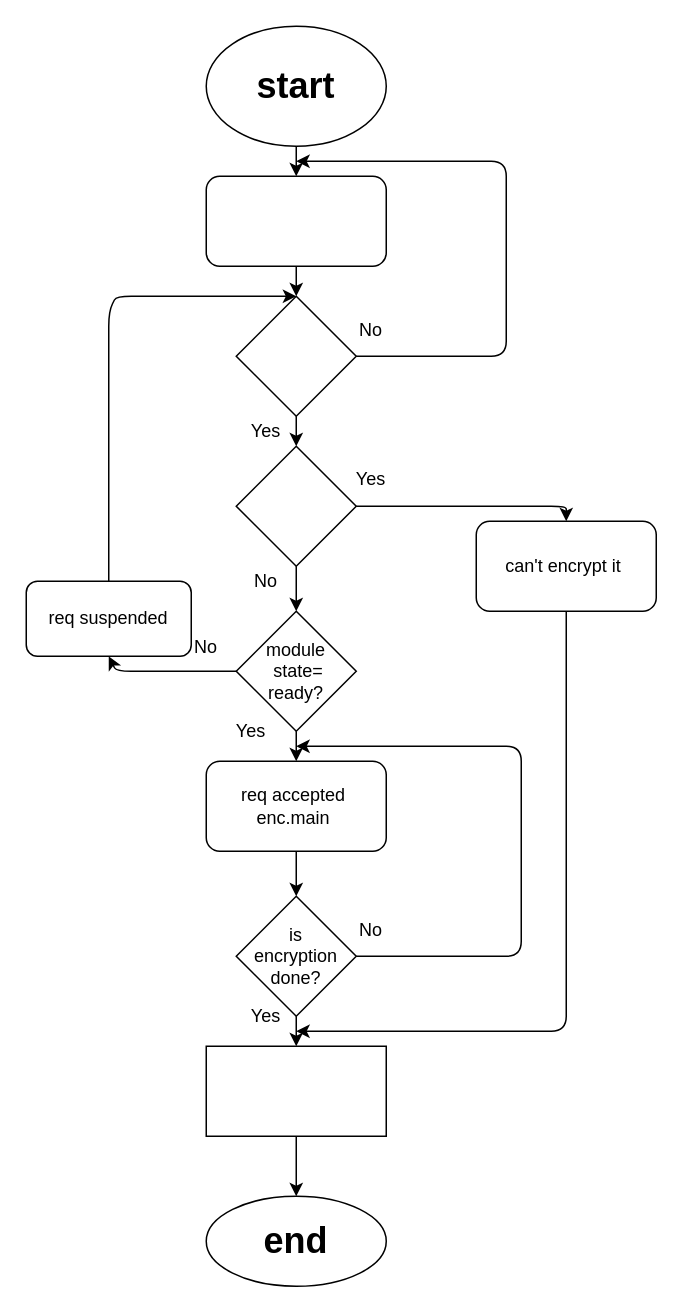
The diagram is 683 pixels wide and 1313 high, and some of its shapes have lost their labels. Here are the shapes that lost their labels. From the top down, the centre of each, then its label:
At point 295,220: "user req_to enc".
At point 295,355: "is flag=0?".
At point 295,505: "is message> max?".
At point 295,1090: "flag=0 module state=idle".
